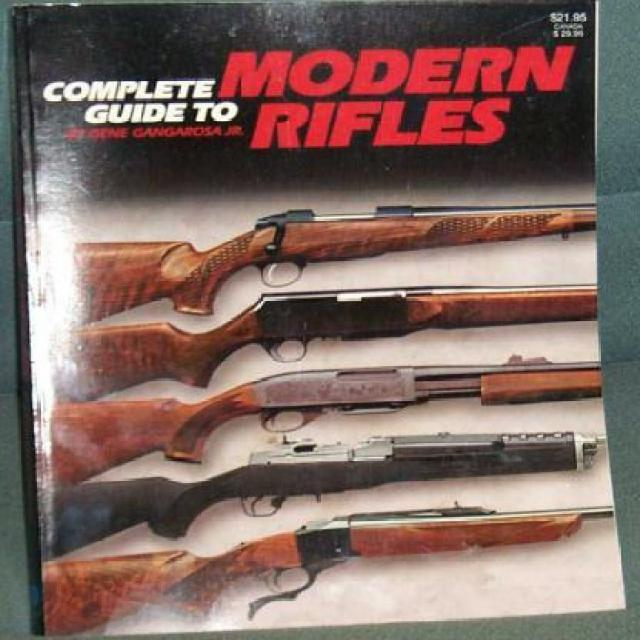weapon: (44, 498, 612, 638), (37, 422, 610, 558), (52, 351, 606, 488), (54, 283, 596, 405), (67, 199, 598, 323)
